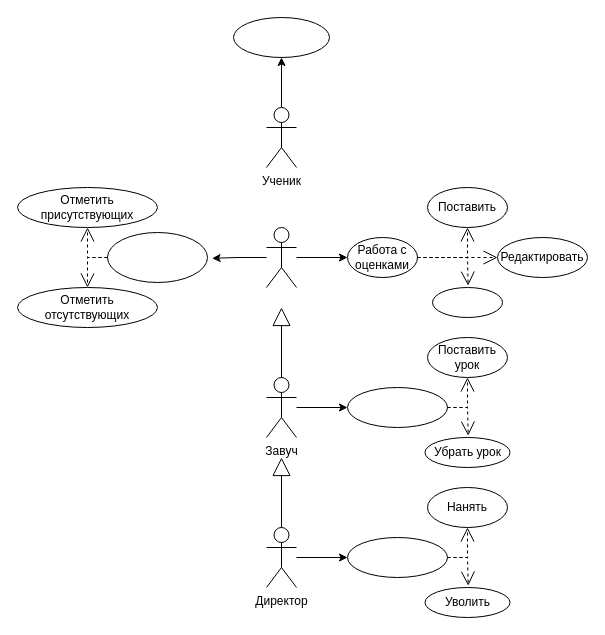
Image size: 605x635. Some labels were removed from this diagram. Each missing label, with the box of its shape:
Просмотр оценок: (232, 16, 330, 58)
Работа с посещениями: (106, 232, 208, 282)
Работа с расписанием: (346, 386, 448, 428)
Работа с сотрудниками: (346, 536, 448, 578)
Удалить: (432, 286, 502, 318)
Учитель: (266, 226, 296, 288)
